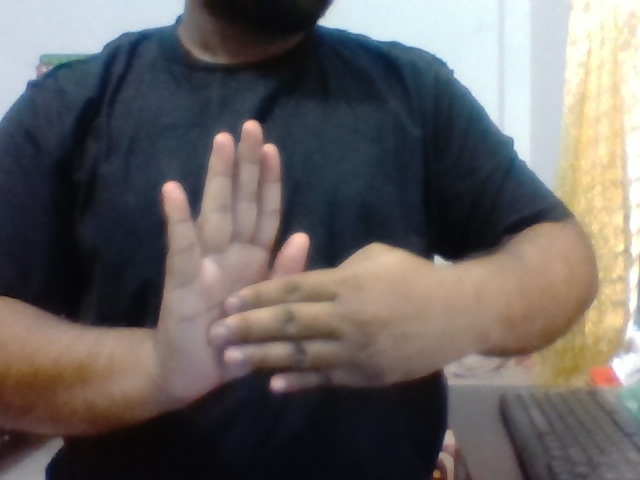H: (148, 116, 435, 404)
